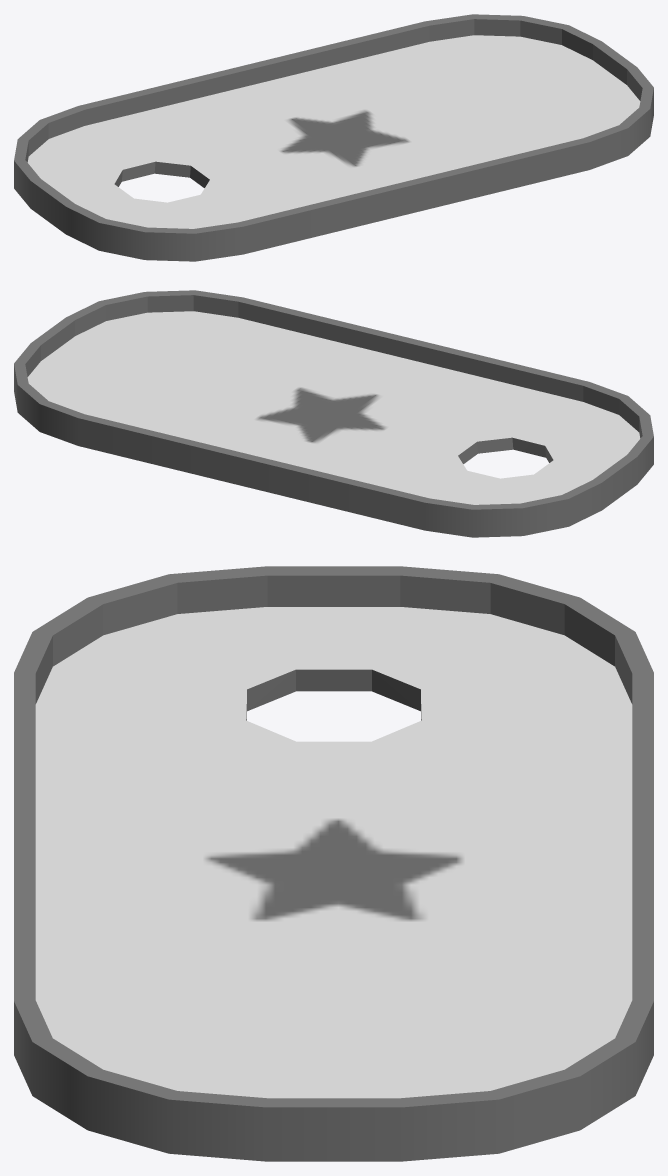
File: SolderBadge.fbx
3 views of the same model, one above another, from view 1: azimuth 30°, elevation 25°; view 2: azimuth 150°, elevation 25°; view 3: azimuth 270°, elevation 25° (orthographic). The views are drawn at different scales.
Visible parts, largest first — view 1: Box001; view 2: Box001; view 3: Box001.
Part boxes in pixels (box(x1,y1,x2,y2)): Box001: box(14, 14, 653, 261); Box001: box(14, 290, 653, 537); Box001: box(14, 566, 653, 1161).
Size of the model in its own units: 59.06 by 2.76 by 29.53.
